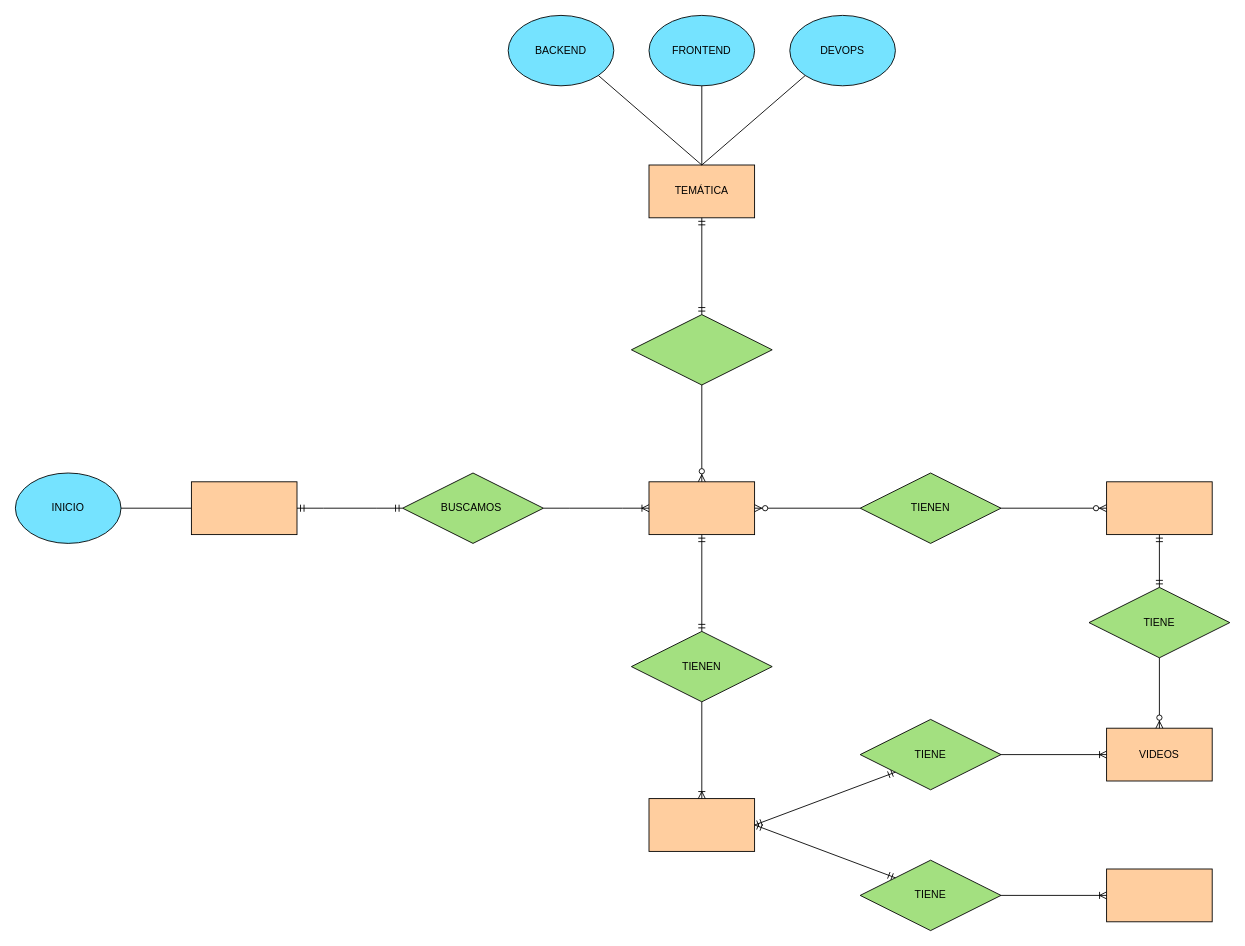
The diagram is 1245 pixels wide and 946 high, and some of its shapes have lost their labels. The shapes that lost their labels are listed below. From the top down, each one's centre as x and y in pixels, then its label:
At pixel 701 349: "SE CLASIFICAN POR".
At pixel 244 508: "HOME".
At pixel 701 508: "CURSOS".
At pixel 1159 508: "AUTOR".
At pixel 701 824: "LECCIÓN".
At pixel 1159 895: "ARTICULOS".
